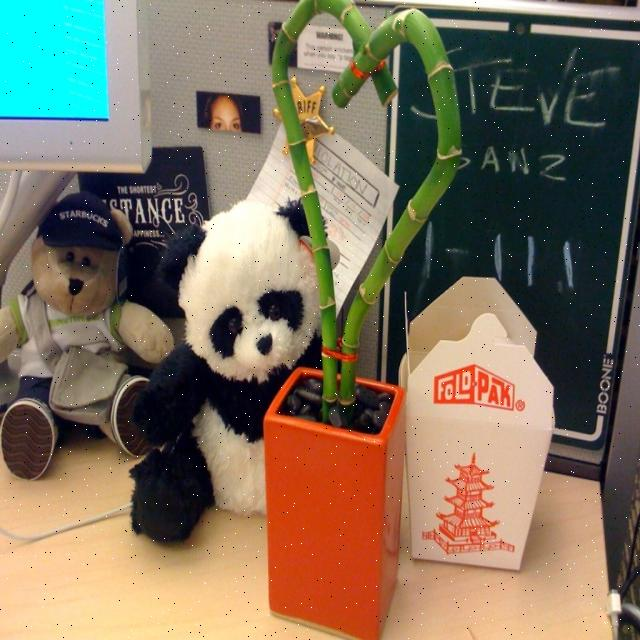panda: (124, 191, 330, 539)
